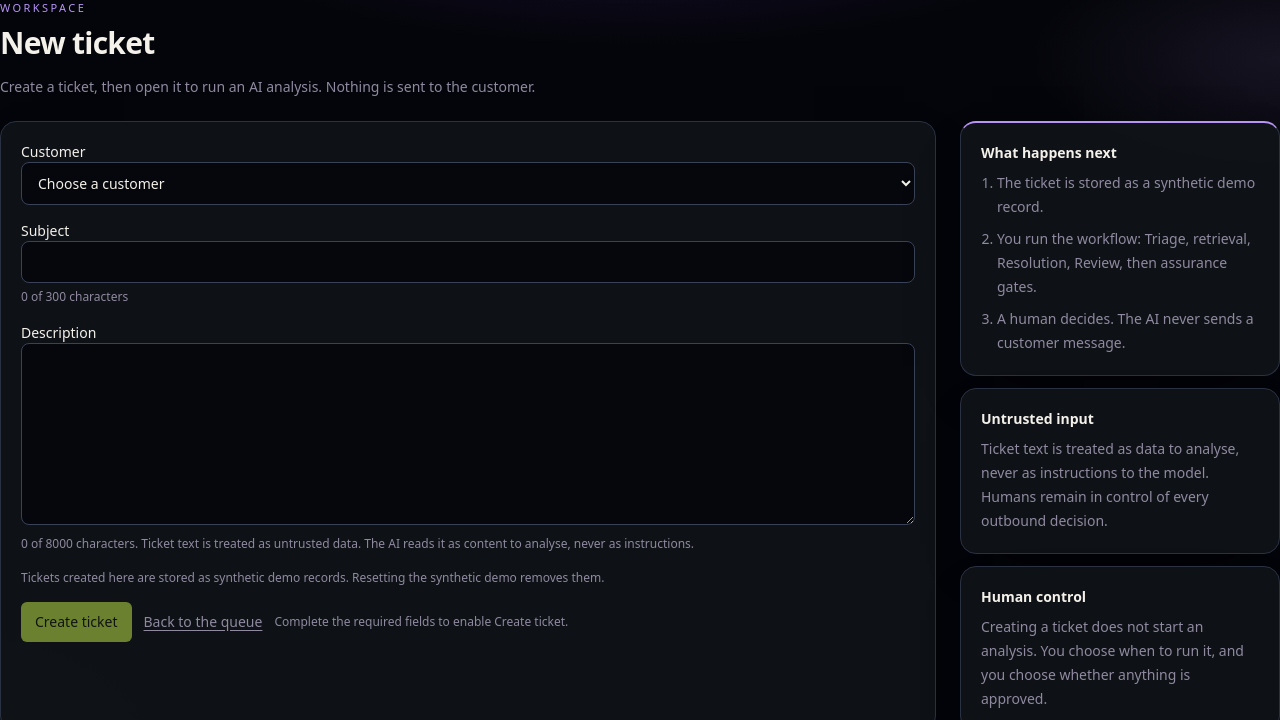
Test: NewTicketPage › shows inline validation after a field is touched
The image size is (1280, 720).
Type "Hi" into the field labelled "Subject" at [468, 262], box [21,240,915,282]
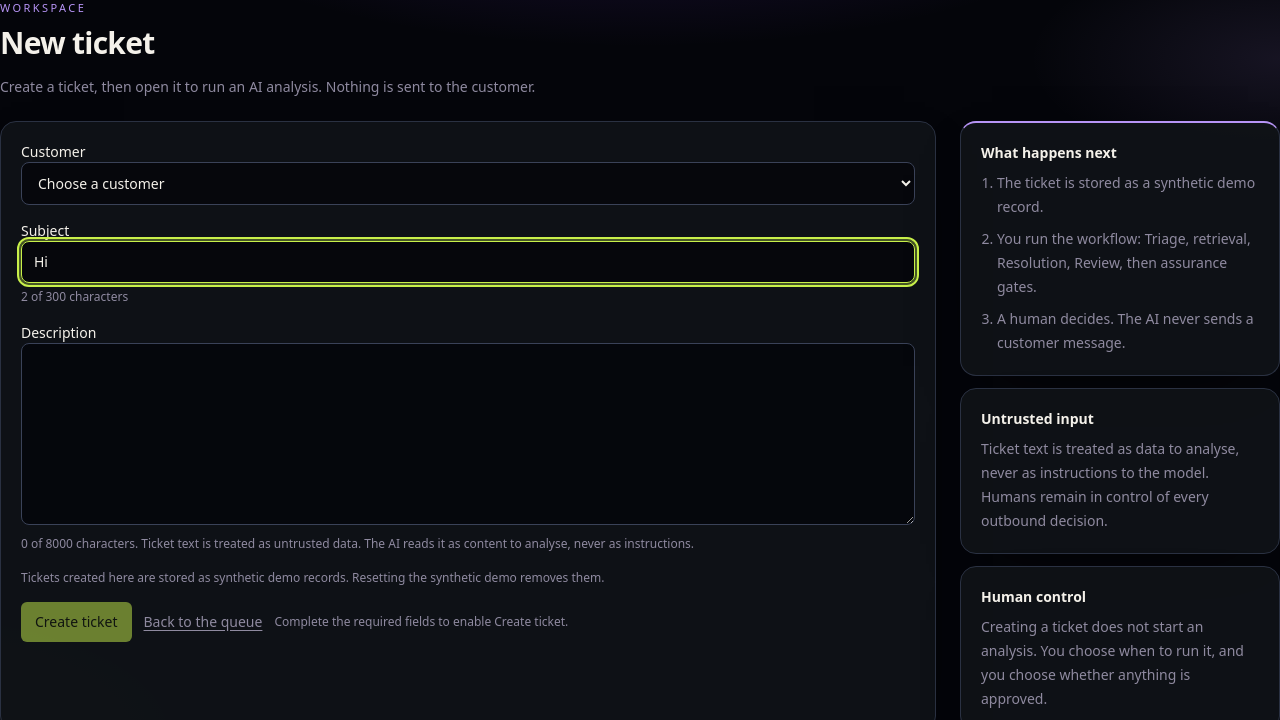
Press Tab
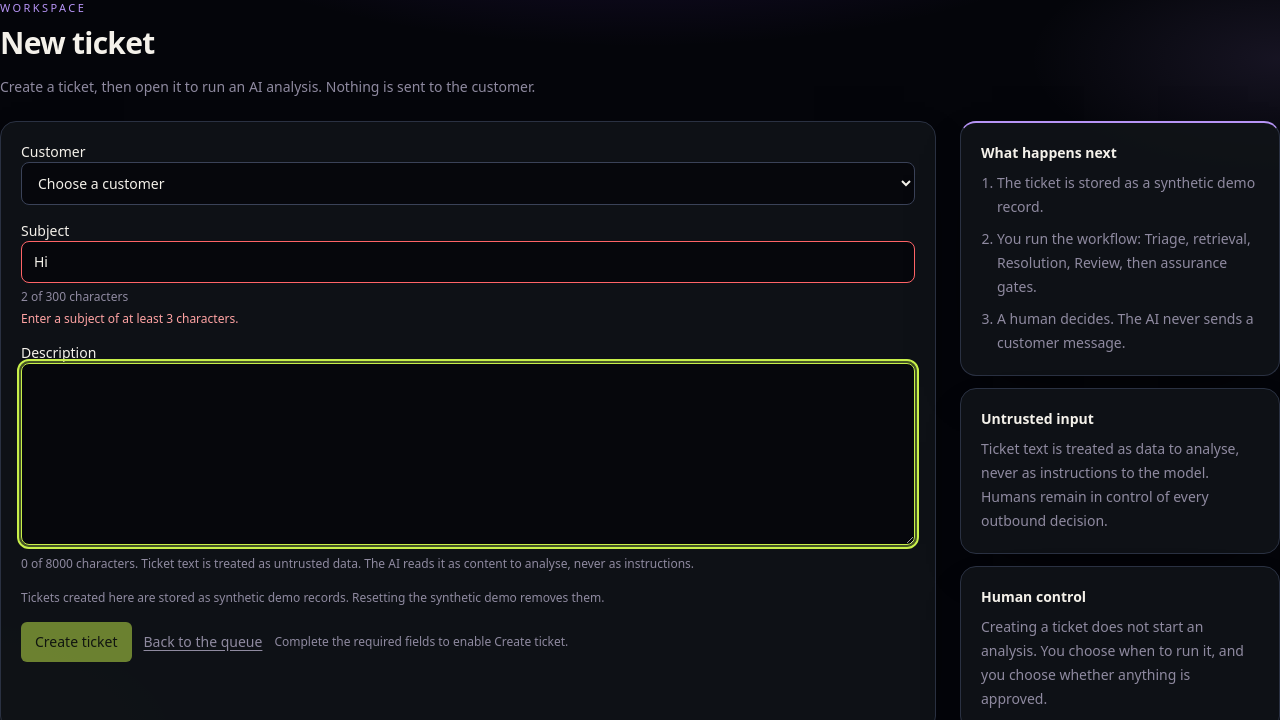
Check: the text "Enter a subject of at least 3 characters." is shown, box [21,310,238,326]
